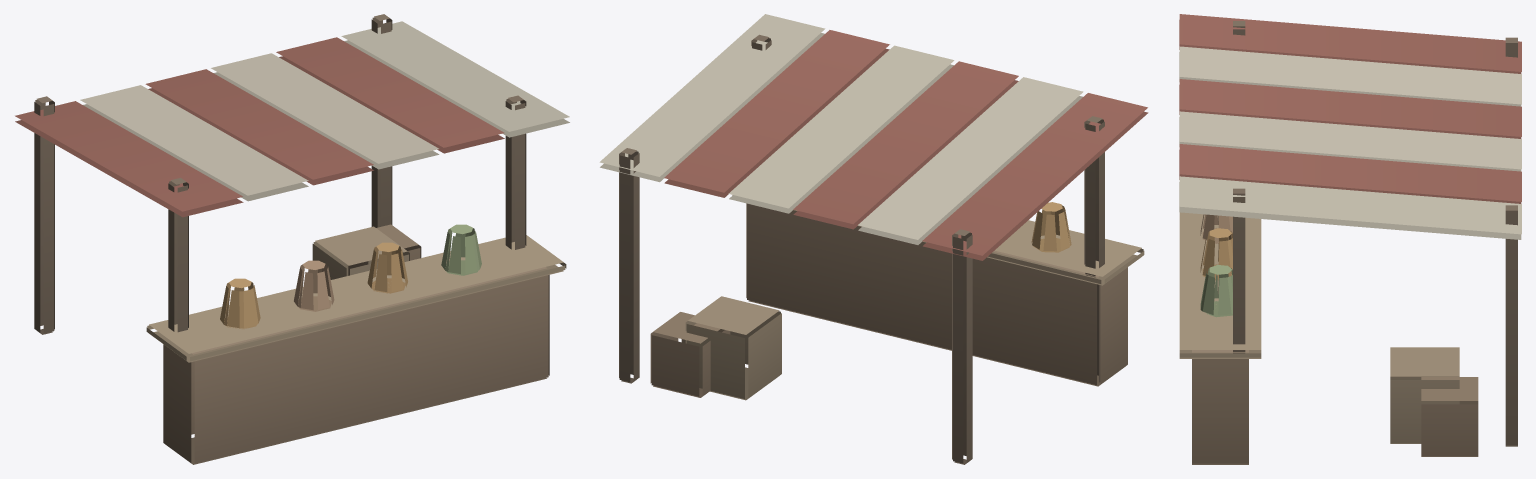
File: iv_stall.lod.glb
3 renders of one model, left to right at view 1: azimuth 30°, elevation 25°; view 2: azimuth 150°, elevation 25°; view 3: azimuth 270°, elevation 25°, orthographic. The views are drawn at different scales.
Visible parts, largest first — view 1: iv_stall; view 2: iv_stall; view 3: iv_stall.
Boxes of the visible parts, left/top/right/bottom form: iv_stall: left=15, top=14, right=569, bottom=464; iv_stall: left=599, top=14, right=1148, bottom=464; iv_stall: left=1179, top=14, right=1521, bottom=464.
Size of the model in its own units: 3.68 by 2.4 by 2.78.
